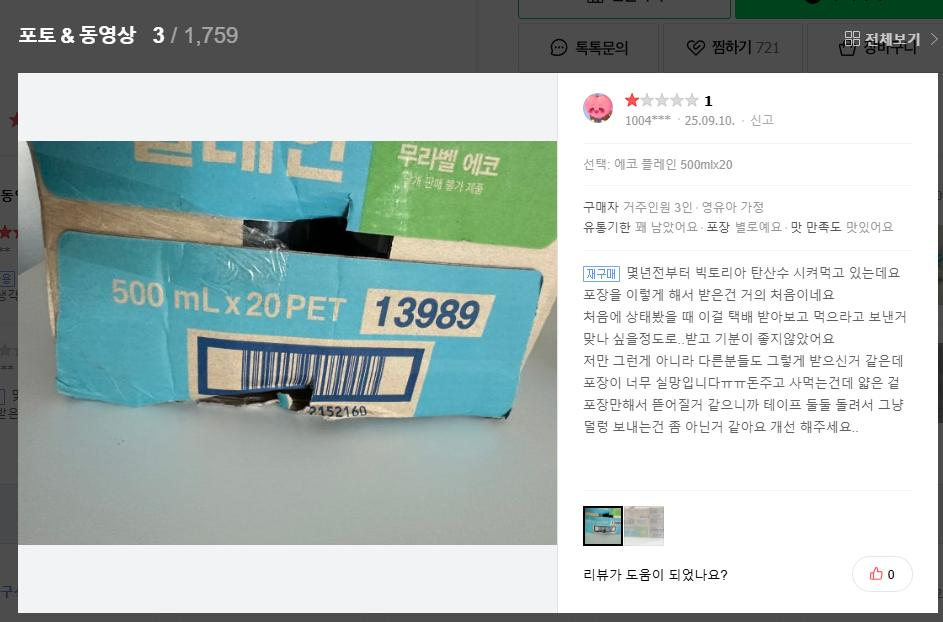button: (519, 24, 655, 74), (666, 21, 801, 71), (808, 23, 941, 73), (836, 21, 943, 60), (849, 548, 922, 598), (625, 505, 664, 546), (584, 507, 622, 543)
